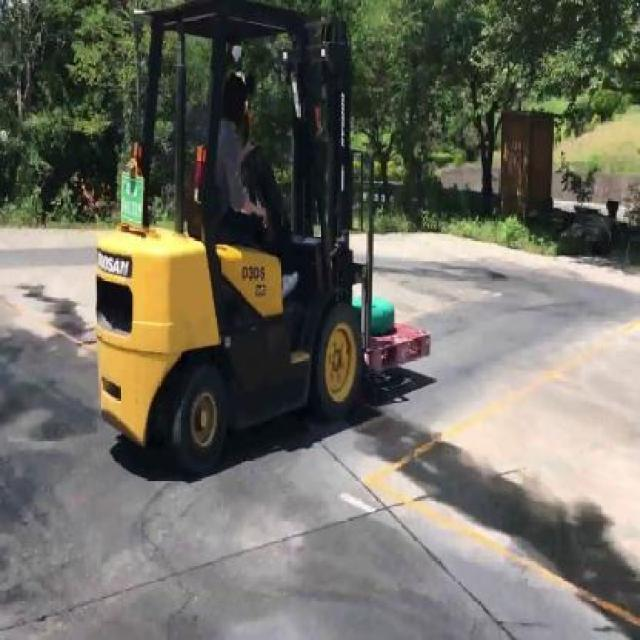forklift: (94, 19, 363, 462)
